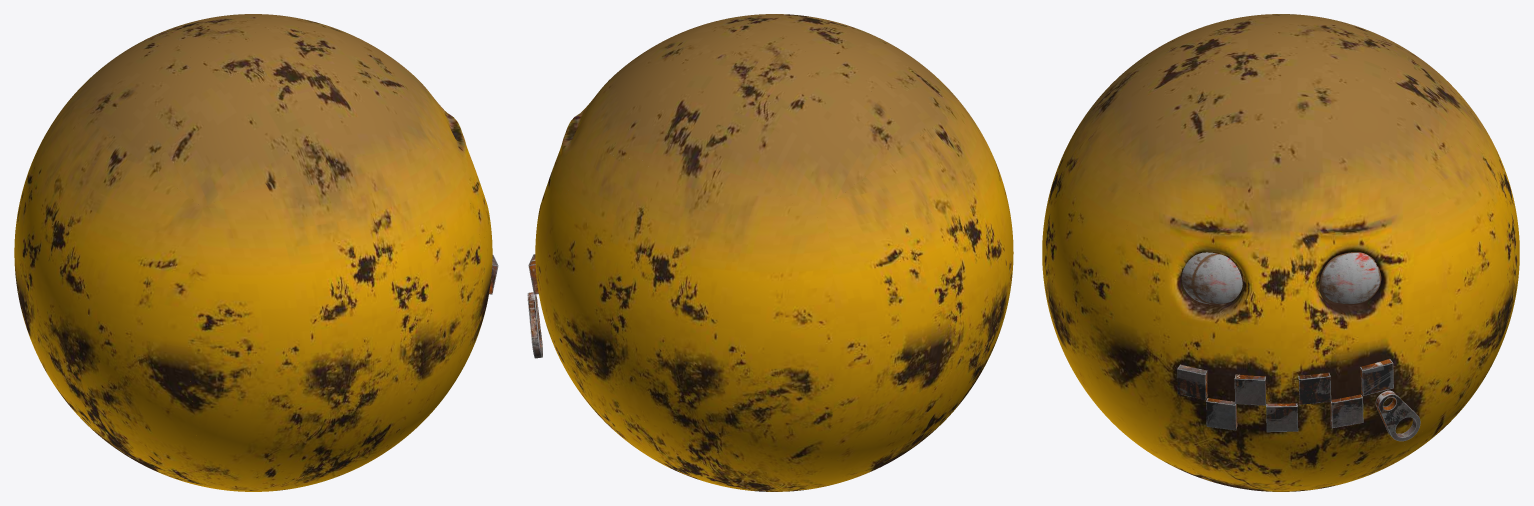
The model's file is Smiley.glb.
The picture shows the model from 3 angles, left to right: view 1: azimuth 30°, elevation 25°; view 2: azimuth 150°, elevation 25°; view 3: azimuth 270°, elevation 25°; orthographic projection.
Parts seen in each view (by area): view 1: object 4, object 3, object 5; view 2: object 3, object 5, object 4, object 2; view 3: object 3, object 5, object 4, hjn, object 6, object 7, object 2.
Boxes of the visible parts, x1,y1,x2,y2 form: object 4: (14, 27, 442, 460); object 3: (57, 102, 492, 473); object 5: (65, 14, 488, 491); object 3: (535, 98, 969, 461); object 5: (537, 34, 919, 491); object 4: (631, 14, 1013, 460); object 2: (527, 292, 542, 358); object 3: (1042, 77, 1519, 477); object 5: (1114, 14, 1487, 491); object 4: (1112, 14, 1289, 185); hjn: (1177, 359, 1393, 432); object 6: (1320, 252, 1381, 304); object 7: (1181, 252, 1242, 304); object 2: (1375, 390, 1420, 441).
Size of the model in its own units: 2.02 by 1.99 by 1.99.
Materials: 3 (3 with a texture image).
